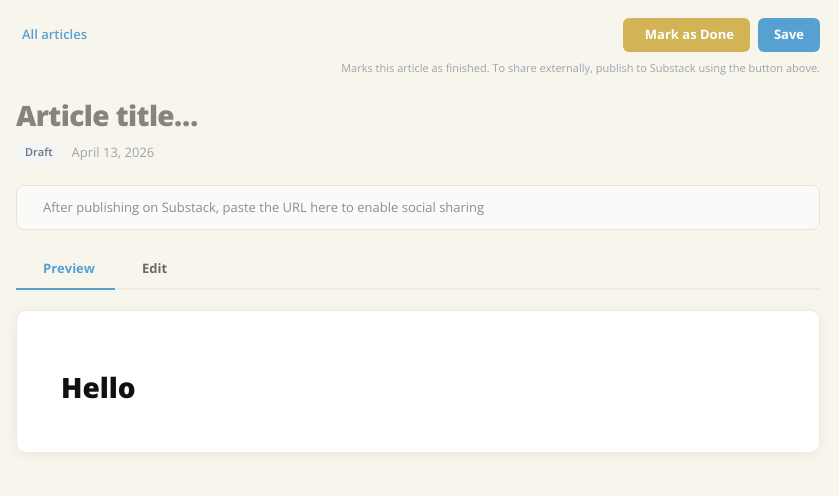
Test case: ArticleEditor — publish semantics › blocks save when title is empty and shows error
Click the button "Save": (789, 35) [758,18,820,52]
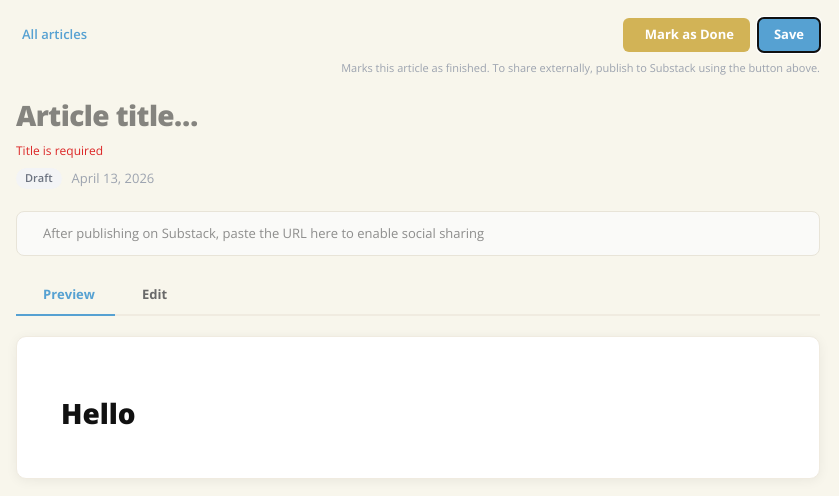
Now the text "Title is required" is shown, box [16,142,103,159]
